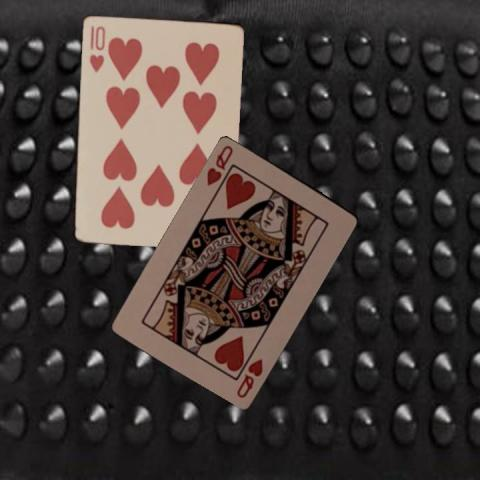10h: (86, 23, 107, 73)
Qh: (203, 142, 235, 188), (233, 356, 265, 400)
